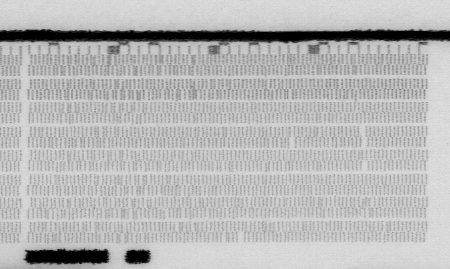Broken hole: (357, 126, 372, 149), (287, 137, 299, 150), (234, 230, 247, 242), (360, 159, 371, 172)
Oblique printing: (43, 125, 162, 241), (45, 51, 209, 102), (164, 209, 231, 246), (55, 100, 149, 126), (223, 78, 301, 103), (330, 78, 363, 102), (256, 221, 283, 245), (355, 196, 383, 219), (218, 124, 233, 149), (260, 160, 276, 174), (260, 64, 274, 79), (312, 196, 325, 210), (347, 65, 360, 78), (380, 220, 393, 233), (313, 125, 325, 138)
